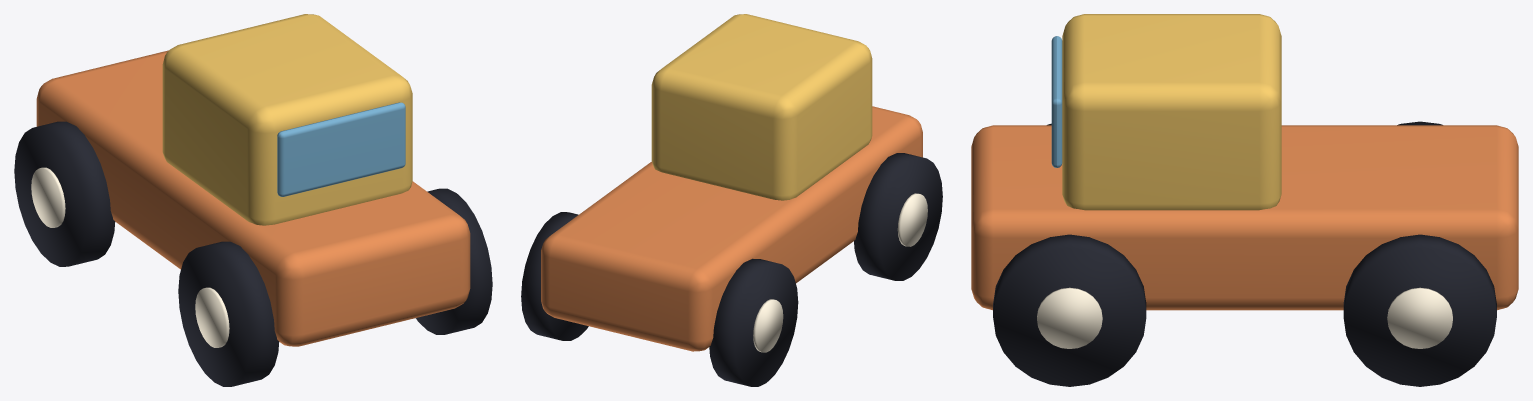
Rendered from word-bus.glb.
3 views of the same model, side by side, from view 1: azimuth 30°, elevation 25°; view 2: azimuth 150°, elevation 25°; view 3: azimuth 270°, elevation 25° (orthographic). The views are drawn at different scales.
Parts seen in each view (by area): view 1: vehicle body, cabin, rubber wheel.001, rubber wheel, windshield, rubber wheel.002, wheel hub.001, wheel hub; view 2: vehicle body, cabin, rubber wheel.001, rubber wheel, rubber wheel.003, wheel hub.001, wheel hub; view 3: vehicle body, cabin, rubber wheel.002, rubber wheel.003, wheel hub.002, wheel hub.003, windshield.
Boxes of the visible parts, x1=… form: vehicle body: x1=36, y1=50, x2=470, y2=346; cabin: x1=162, y1=14, x2=412, y2=225; rubber wheel.001: x1=14, y1=121, x2=115, y2=266; rubber wheel: x1=178, y1=241, x2=279, y2=386; windshield: x1=277, y1=102, x2=405, y2=196; rubber wheel.002: x1=416, y1=188, x2=492, y2=334; wheel hub.001: x1=31, y1=167, x2=65, y2=227; wheel hub: x1=195, y1=287, x2=229, y2=347; vehicle body: x1=541, y1=106, x2=922, y2=351; cabin: x1=651, y1=14, x2=872, y2=200; rubber wheel.001: x1=709, y1=258, x2=798, y2=386; rubber wheel: x1=854, y1=153, x2=942, y2=280; rubber wheel.003: x1=521, y1=212, x2=588, y2=340; wheel hub.001: x1=753, y1=299, x2=783, y2=352; wheel hub: x1=897, y1=193, x2=927, y2=246; vehicle body: x1=971, y1=125, x2=1518, y2=310; cabin: x1=1062, y1=14, x2=1281, y2=210; rubber wheel.002: x1=993, y1=234, x2=1146, y2=386; rubber wheel.003: x1=1343, y1=234, x2=1496, y2=386; wheel hub.002: x1=1037, y1=287, x2=1102, y2=348; wheel hub.003: x1=1387, y1=287, x2=1452, y2=348; windshield: x1=1051, y1=36, x2=1062, y2=167.
Bounding box in the file's own units: 0.844 × 0.83 × 1.5.
